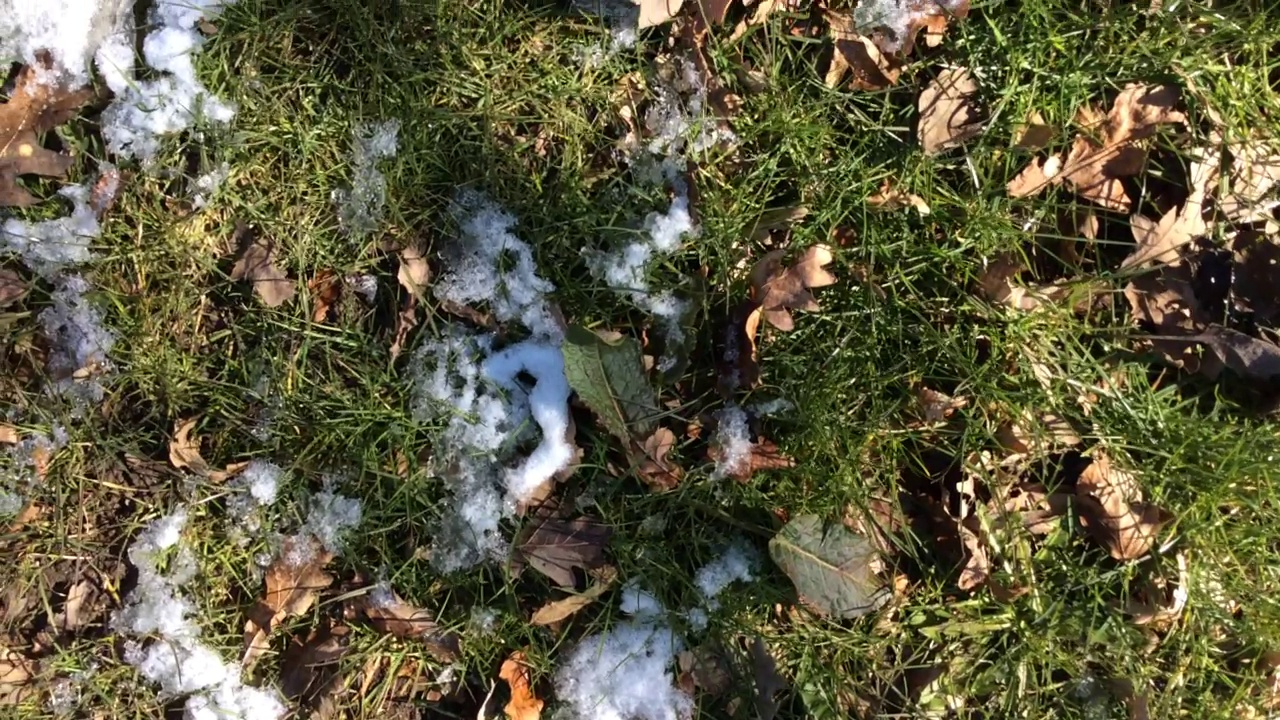root: (662, 475, 744, 529)
rumex: (558, 320, 896, 618)
